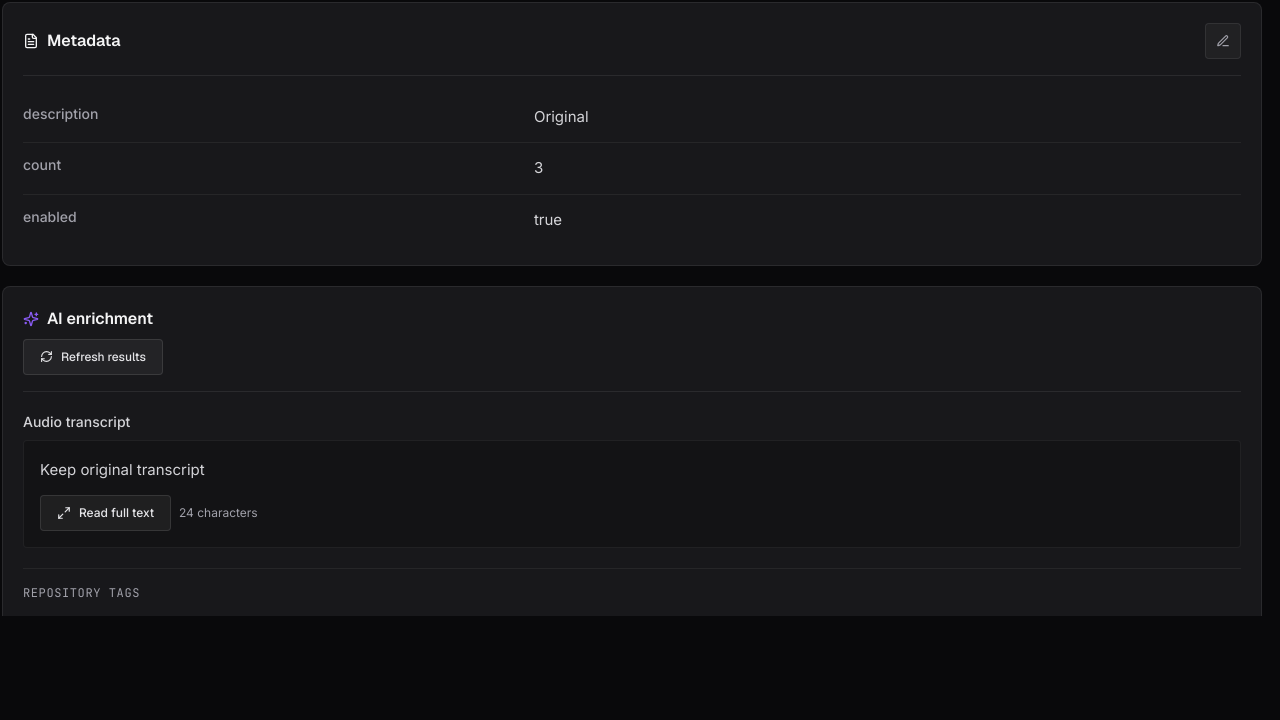
Test: removing existing fields requires confirmation and preserves other metadata
Later steps or results of the test are not shown.
Click the button named "Edit metadata" at (1223, 41), box [1205,23,1241,59]
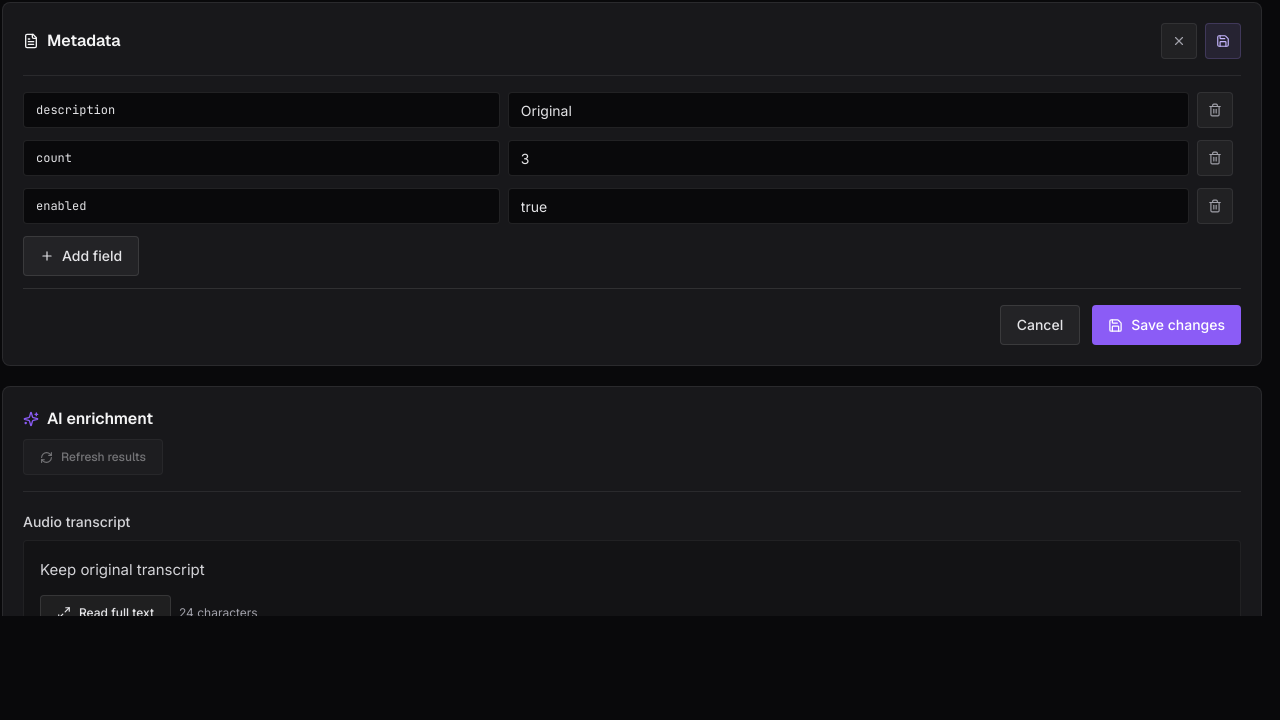
Expected: the button "Refresh results" is disabled, [23,439,163,475]
Click the 1st button named "Remove metadata field" at (1215, 110), box [1197,92,1233,128]
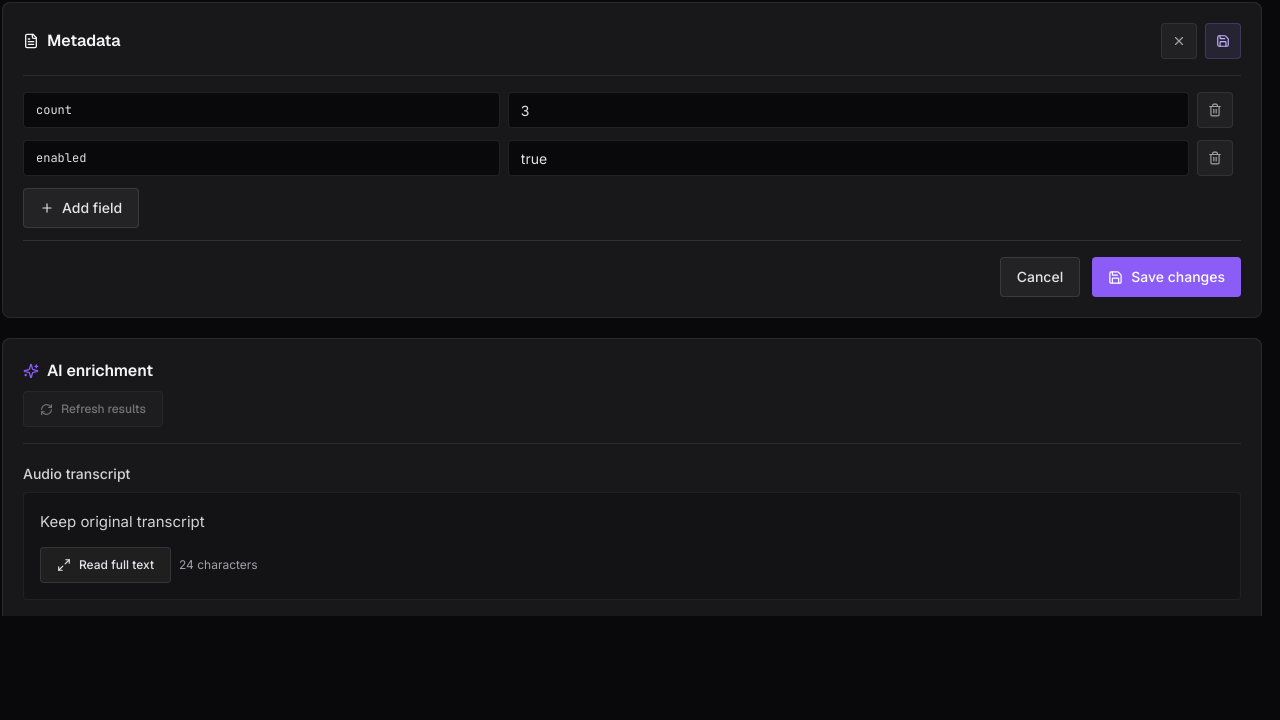
Click the button named "Save metadata" at (1223, 41), box [1205,23,1241,59]
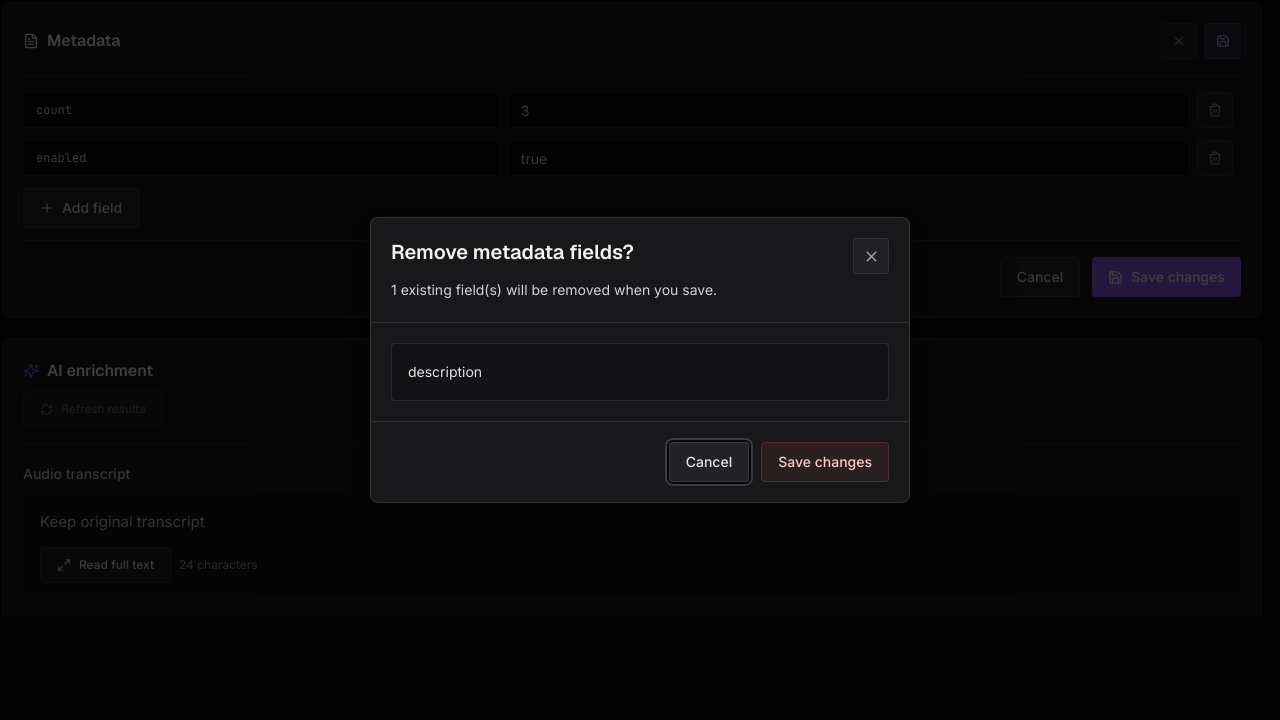
Click the button "Cancel" at (709, 462), box [669,442,749,482]
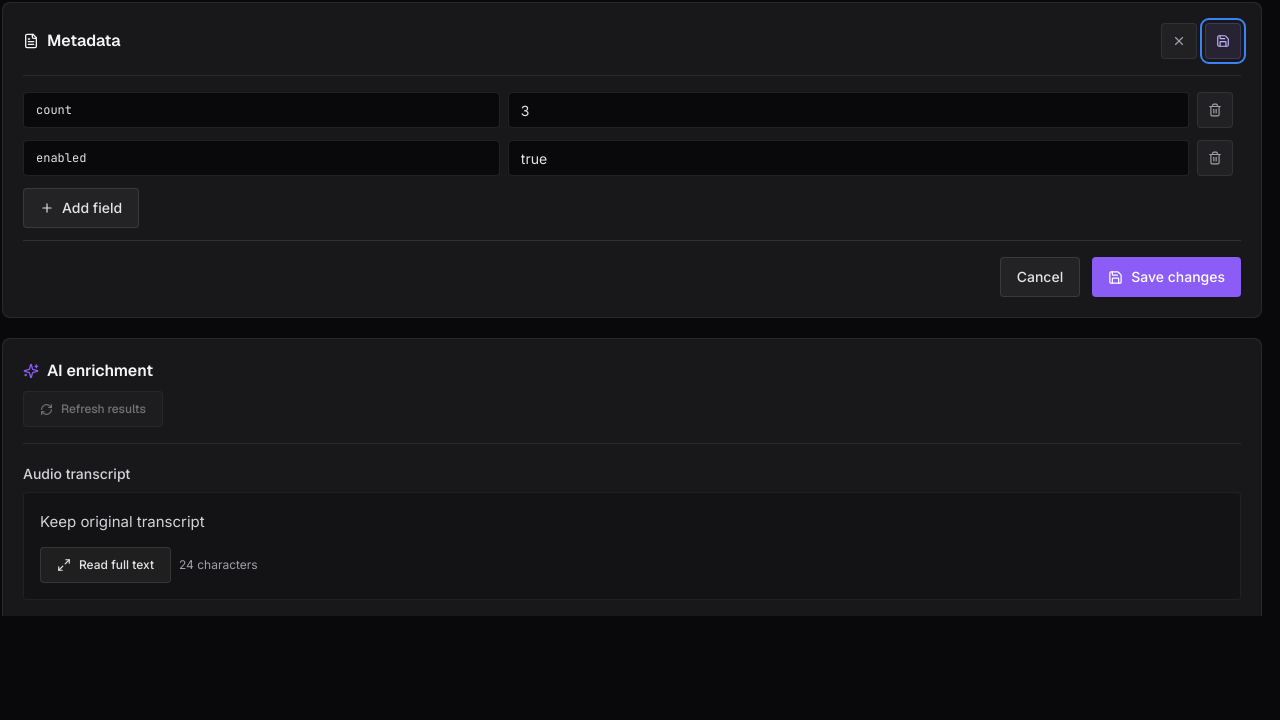
Expected: the number of fields named "Metadata field name" is 2, [23,92,500,128]; [23,140,500,176]
